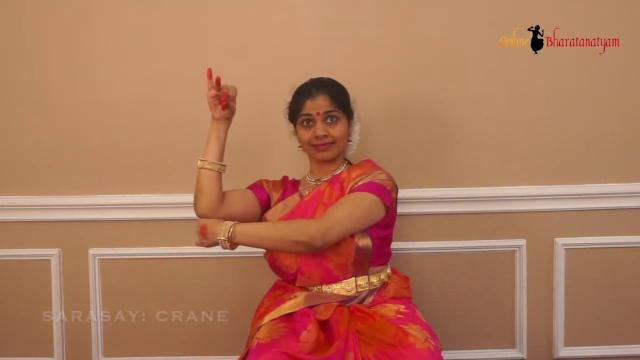bhramara: (186, 54, 250, 126)
